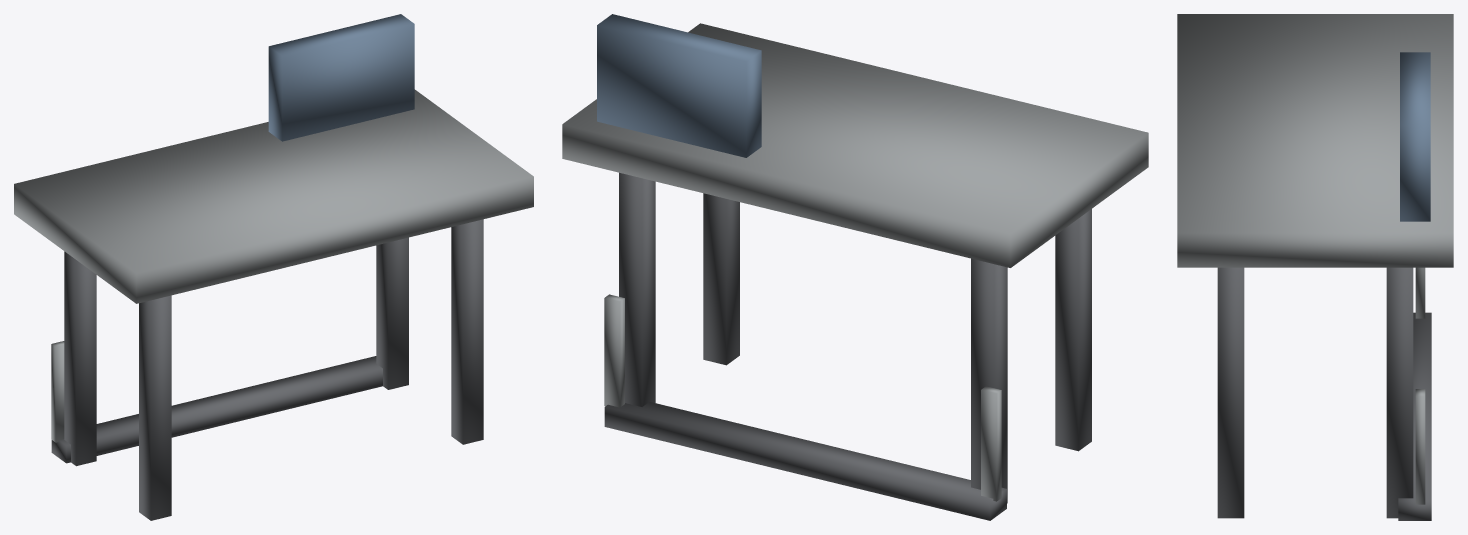
The model's file is welding_table__reinforced.glb.
3 renders of one model, left to right at view 1: azimuth 30°, elevation 25°; view 2: azimuth 150°, elevation 25°; view 3: azimuth 270°, elevation 25°, orthographic. The views are drawn at different scales.
Visible parts, largest first — view 1: world; view 2: world; view 3: world.
Boxes of the visible parts, x1=… form: world: x1=14, y1=14, x2=533, y2=520; world: x1=562, y1=14, x2=1148, y2=520; world: x1=1177, y1=14, x2=1453, y2=520.
Size of the model in its own units: 1.39 by 1.18 by 0.7416.
